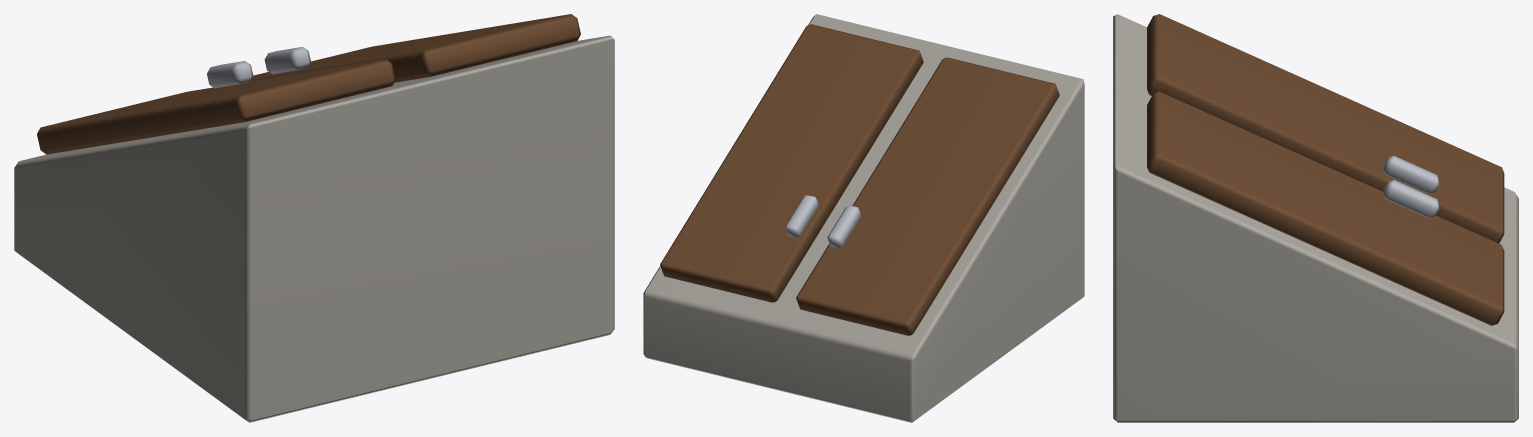
The model's file is cellar_hatch.glb.
The picture shows the model from 3 angles, left to right: view 1: azimuth 30°, elevation 25°; view 2: azimuth 150°, elevation 25°; view 3: azimuth 270°, elevation 25°; orthographic projection. The views are drawn at different scales.
Parts seen in each view (by area): view 1: Body; view 2: Body; view 3: Body.
Part boxes in pixels (x1,y1,x2,y2): Body: (14,14,614,422); Body: (643,14,1084,422); Body: (1113,14,1518,422).
Bounding box in the file's own units: 0.77 × 0.6096 × 0.85.
1 material, 1 textured.
